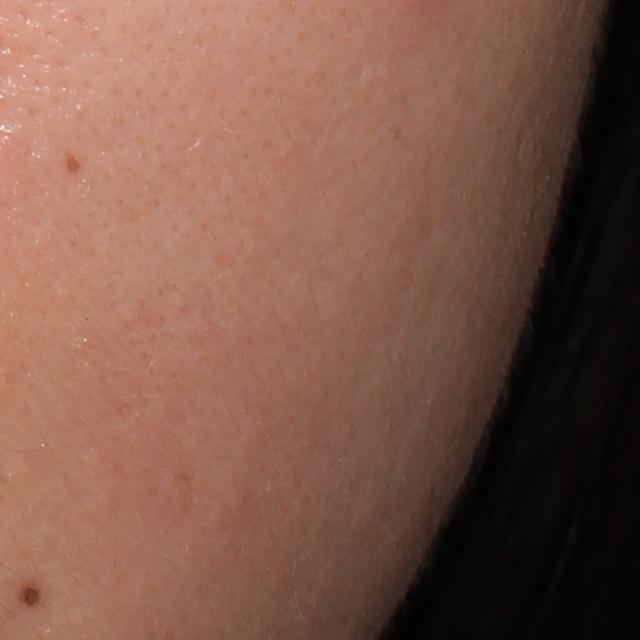nevus: (56, 149, 81, 183), (21, 583, 48, 614)
